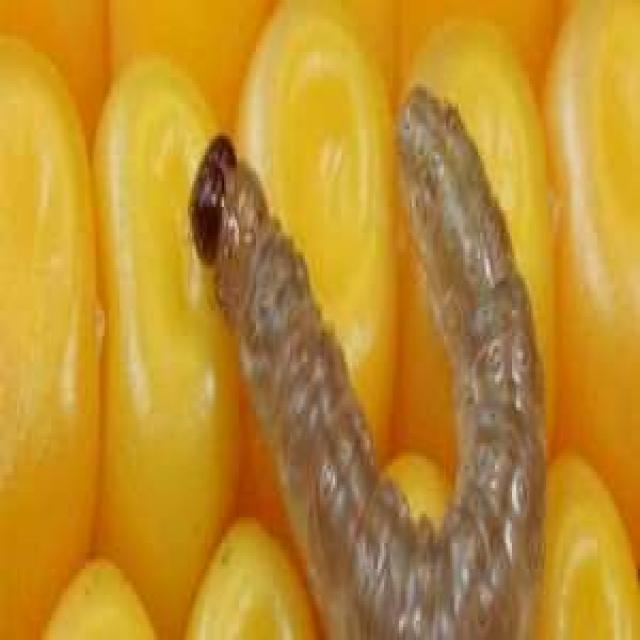cornborer-Larva-: (183, 79, 555, 636)
